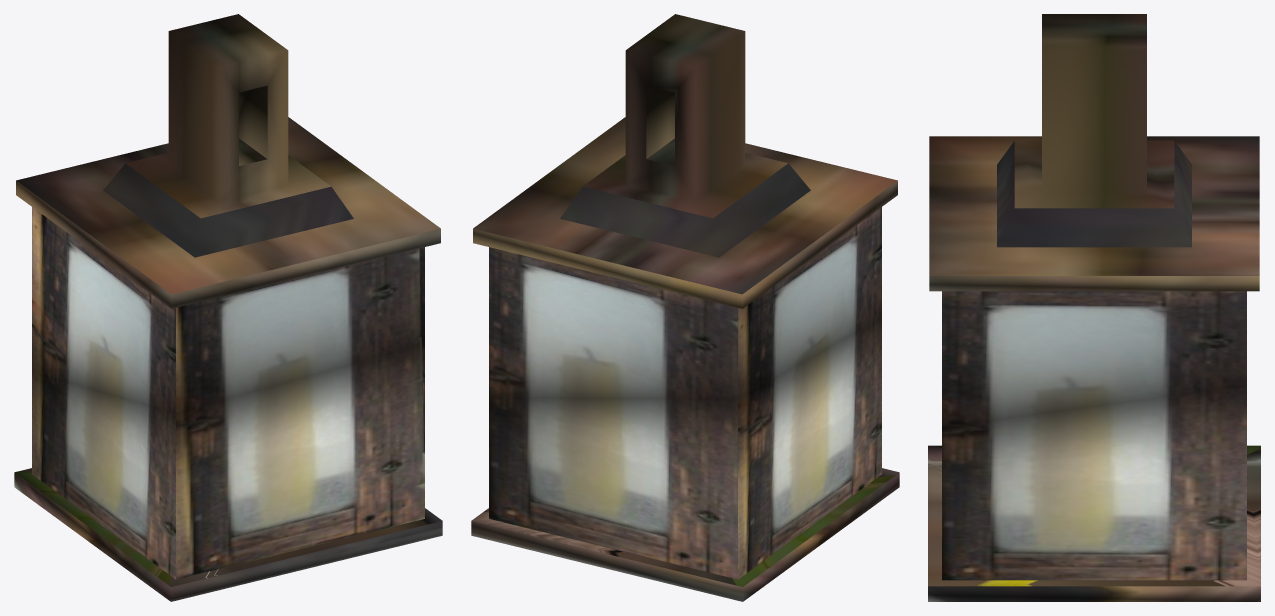
The model's file is Lamparina.fbx.
The picture shows the model from 3 angles, left to right: view 1: azimuth 30°, elevation 25°; view 2: azimuth 150°, elevation 25°; view 3: azimuth 270°, elevation 25°; orthographic projection. The views are drawn at different scales.
Parts seen in each view (by area): view 1: Lamparina1; view 2: Lamparina1; view 3: Lamparina1.
Boxes of the visible parts, left/top/right/bottom form: Lamparina1: left=14, top=14, right=442, bottom=601; Lamparina1: left=471, top=14, right=899, bottom=601; Lamparina1: left=928, top=14, right=1260, bottom=601.
Size of the model in its own units: 34.56 by 34.56 by 57.23.
